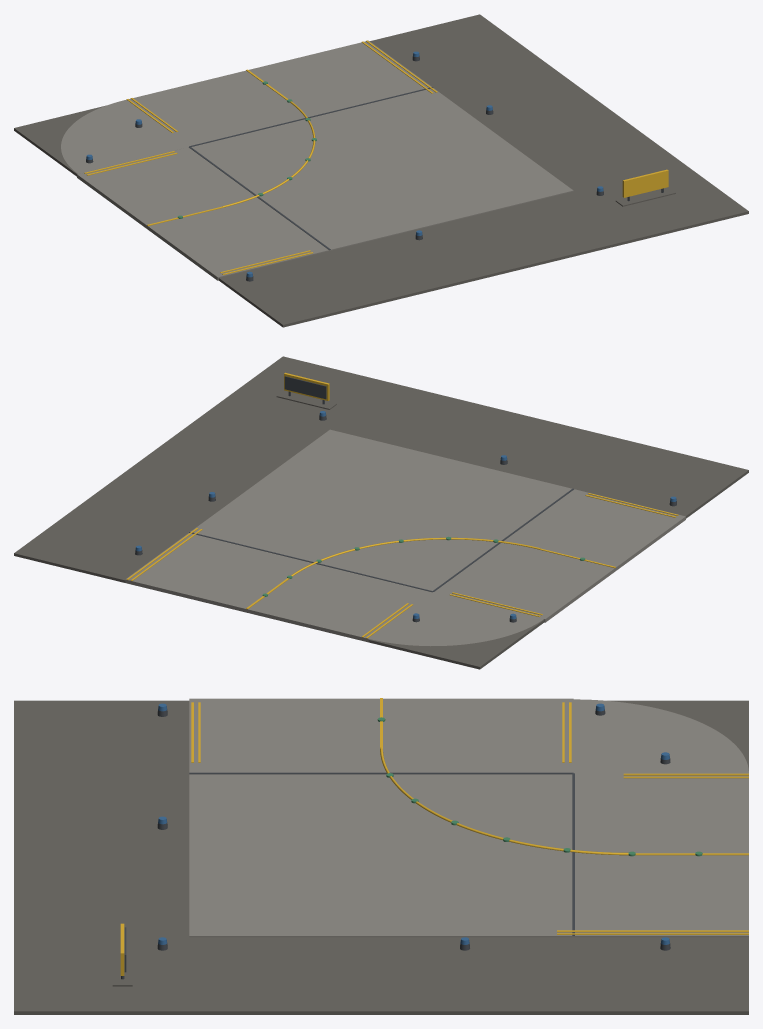
File: corner.glb
3 renders of one model, top to bottom at view 1: azimuth 30°, elevation 25°; view 2: azimuth 150°, elevation 25°; view 3: azimuth 270°, elevation 25°, orthographic. The views are drawn at different scales.
Visible parts, largest first — view 1: pavement_leg, shoulder_east, shoulder_north, pavement_branch, fillet_inner, shoulder_west_s, sign_panel; view 2: pavement_leg, shoulder_east, shoulder_north, pavement_branch, fillet_inner, shoulder_west_s, sign_face, centreline_curve; view 3: pavement_leg, shoulder_east, shoulder_north, pavement_branch, fillet_inner, shoulder_west_s, joint_branch, centreline_curve, sign_base, edge_leg_east_inner.
Boxes of the visible parts, x1=… form: pavement_leg: x1=125, y1=40, x2=573, y2=250; shoulder_east: x1=370, y1=14, x2=748, y2=240; shoulder_north: x1=218, y1=164, x2=748, y2=327; pavement_branch: x1=77, y1=147, x2=330, y2=280; fillet_inner: x1=61, y1=100, x2=188, y2=173; shoulder_west_s: x1=14, y1=105, x2=105, y2=176; sign_panel: x1=622, y1=169, x2=668, y2=197; pavement_leg: x1=125, y1=429, x2=571, y2=642; shoulder_east: x1=14, y1=356, x2=393, y2=582; shoulder_north: x1=219, y1=356, x2=748, y2=518; pavement_branch: x1=434, y1=489, x2=685, y2=622; fillet_inner: x1=369, y1=592, x2=543, y2=646; shoulder_west_s: x1=368, y1=619, x2=544, y2=669; sign_face: x1=284, y1=376, x2=326, y2=399; centreline_curve: x1=291, y1=537, x2=540, y2=576; pavement_leg: x1=189, y1=773, x2=748, y2=937; shoulder_east: x1=14, y1=937, x2=748, y2=1014; shoulder_north: x1=14, y1=700, x2=189, y2=1014; pavement_branch: x1=189, y1=698, x2=573, y2=772; fillet_inner: x1=573, y1=699, x2=748, y2=773; shoulder_west_s: x1=607, y1=700, x2=748, y2=770; joint_branch: x1=189, y1=772, x2=573, y2=774; centreline_curve: x1=380, y1=747, x2=628, y2=855; sign_base: x1=112, y1=949, x2=132, y2=986; edge_leg_east_inner: x1=557, y1=930, x2=748, y2=932.
Bounding box in the file's own units: 44.1 × 2.25 × 44.
